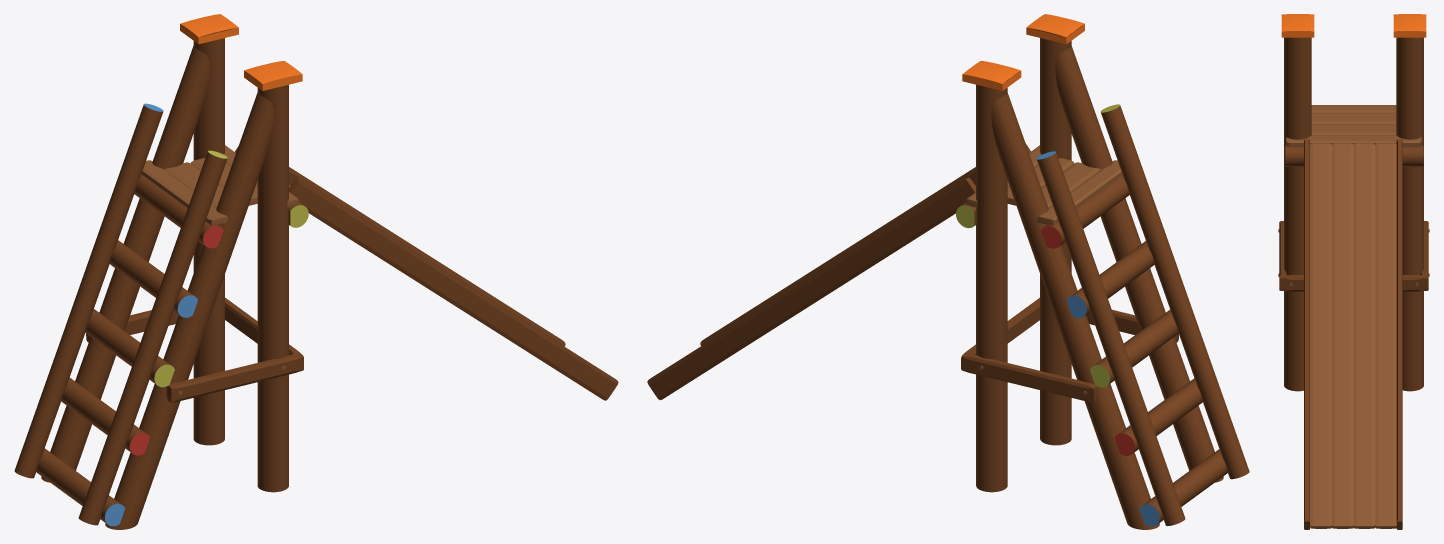
Rendered from escorrega.fbx.
The picture shows the model from 3 angles, left to right: view 1: azimuth 30°, elevation 25°; view 2: azimuth 150°, elevation 25°; view 3: azimuth 270°, elevation 25°; orthographic projection. The views are drawn at different scales.
Visible parts, largest first — view 1: apoio 1; view 2: apoio 1; view 3: apoio 1.
Part boxes in pixels (x1,y1,x2,y2): apoio 1: [14, 14, 618, 529]; apoio 1: [647, 14, 1249, 529]; apoio 1: [1278, 14, 1429, 529].
Bounding box in the file's own units: 319 × 234 × 88.01.
